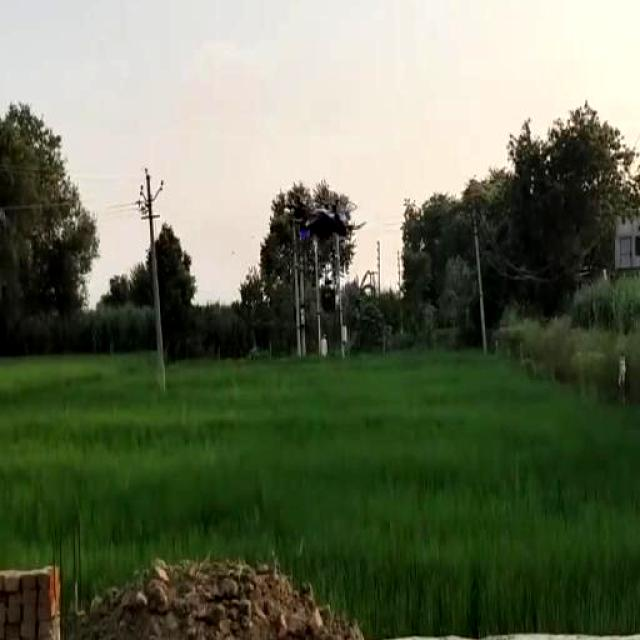bird: (295, 176, 365, 254)
